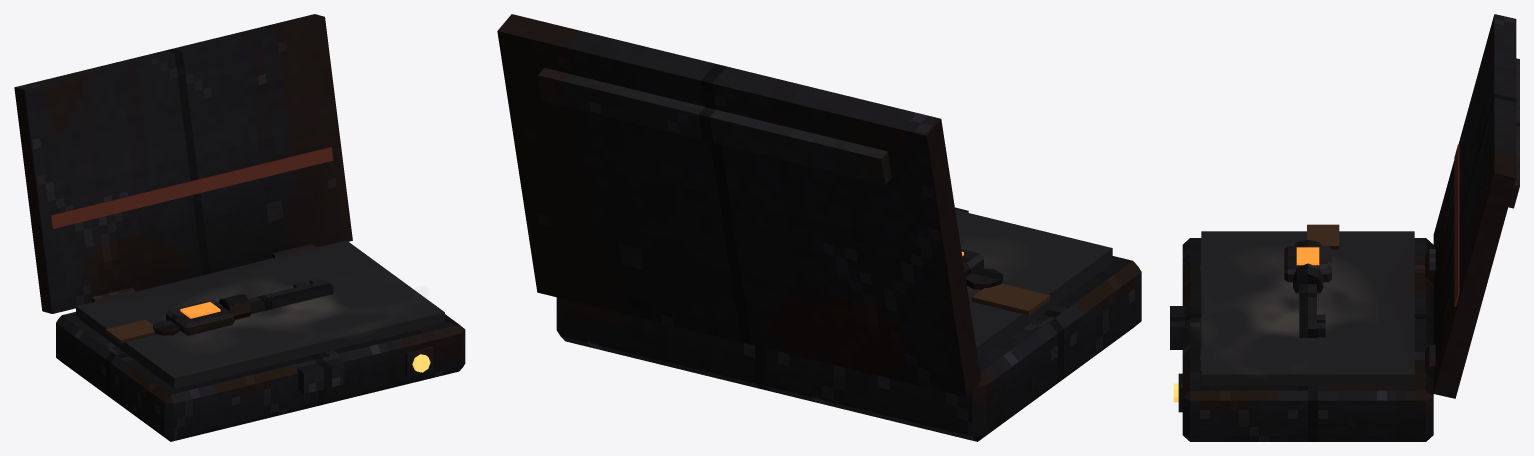
Rendered from route_key.glb.
3 renders of one model, left to right at view 1: azimuth 30°, elevation 25°; view 2: azimuth 150°, elevation 25°; view 3: azimuth 270°, elevation 25°, orthographic. The views are drawn at different scales.
Visible parts, largest first — view 1: body, key, decals; view 2: body, key; view 3: body, decals, key.
Boxes of the visible parts, x1,y1,x2,y2 form: body: (14, 14, 465, 441); key: (105, 277, 333, 343); decals: (184, 283, 344, 342); body: (497, 14, 1141, 441); key: (961, 249, 1050, 315); body: (1170, 14, 1519, 441); decals: (1245, 254, 1369, 336); key: (1284, 224, 1339, 338).
Size of the model in its own units: 0.3 by 0.2391 by 0.2788.
Materials: 8 (3 with a texture image).
